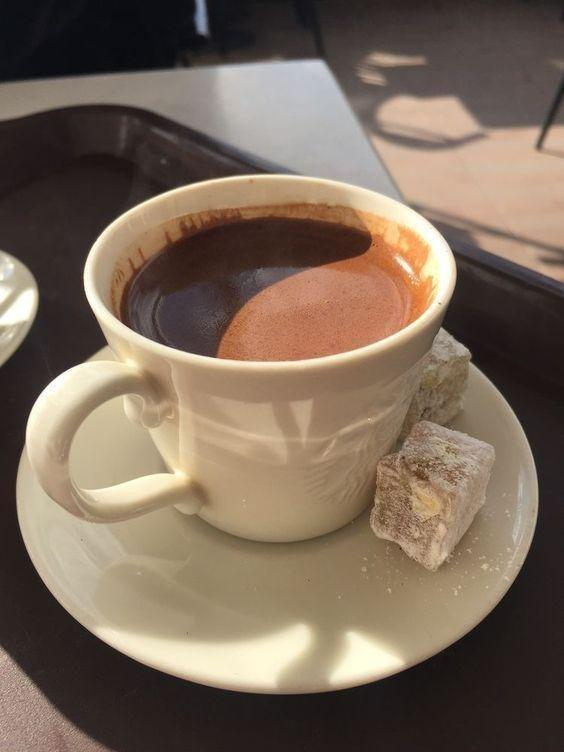cup-handle: (23, 170, 460, 544)
